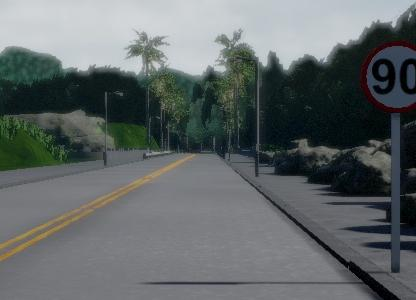Speed_90: (358, 36, 416, 114)
